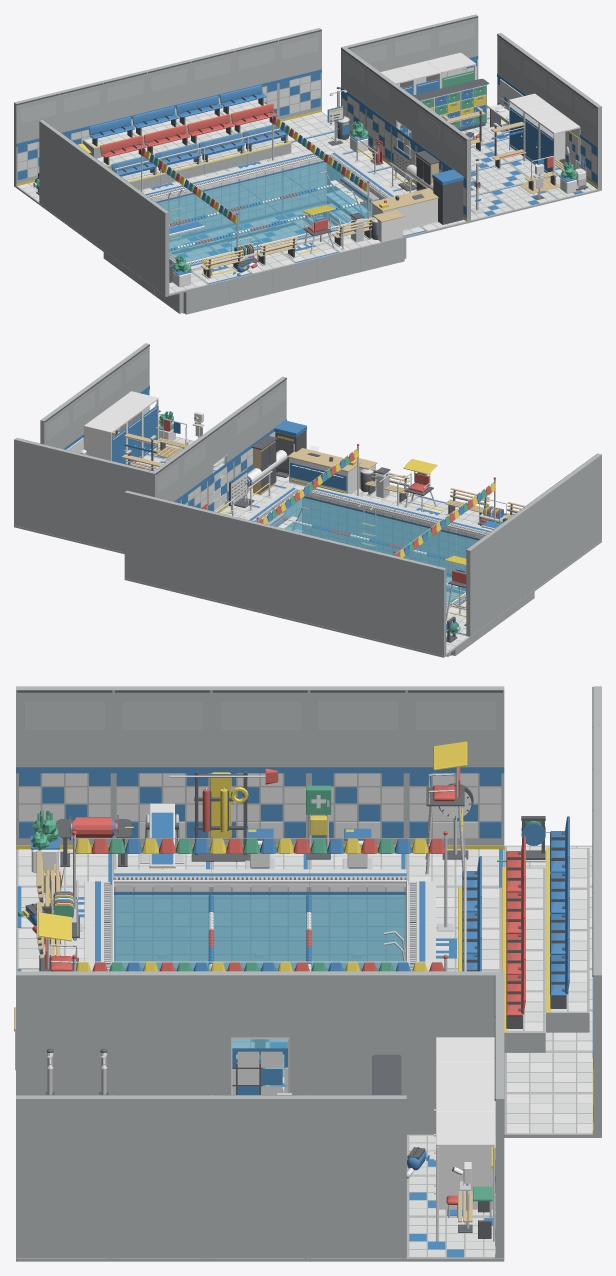
Rendered from swimming-baths.glb.
3 views of the same model, one above another, from view 1: azimuth 30°, elevation 25°; view 2: azimuth 150°, elevation 25°; view 3: azimuth 270°, elevation 25° (orthographic). The views are drawn at different scales.
Visible parts, largest first — view 1: 115-baths-wall-module/0, 110-baths-wall-module/0, 111-baths-wall-module/0, 112-baths-wall-module/0, 113-baths-wall-module/0, 114-baths-wall-module/0, 104-baths-wall-module/0, 109-baths-wall-module/0, 105-baths-wall-module/0, 106-baths-wall-module/0, 108-baths-wall-module/0, 107-baths-wall-module/0 (+89 smaller); view 2: 104-baths-wall-module/0, 108-baths-wall-module/0, 105-baths-wall-module/0, 110-baths-wall-module/0, 122-baths-wall-module/0, 106-baths-wall-module/0, 109-baths-wall-module/0, 107-baths-wall-module/0, 123-baths-wall-module/0, 111-baths-wall-module/0, 121-baths-wall-module/0, 114-baths-wall-module/0 (+36 smaller); view 3: 126-baths-wall-module/0, 124-baths-wall-module/0, 127-baths-wall-module/0, 125-baths-wall-module/0, 119-baths-wall-module/0, 120-baths-wall-module/0, 117-baths-wall-module/0, 115-baths-wall-module/0, 112-baths-wall-module/0, 114-baths-wall-module/0, 116-baths-wall-module/0, 118-baths-wall-module-doorway/0 (+79 smaller).
Part boxes in pixels (x1,y1,x2,y2): 115-baths-wall-module/0: [140, 194, 169, 295]; 110-baths-wall-module/0: [276, 28, 321, 119]; 111-baths-wall-module/0: [39, 120, 67, 220]; 112-baths-wall-module/0: [64, 138, 93, 239]; 113-baths-wall-module/0: [89, 157, 118, 258]; 114-baths-wall-module/0: [115, 175, 143, 276]; 104-baths-wall-module/0: [14, 92, 59, 185]; 109-baths-wall-module/0: [232, 38, 278, 119]; 105-baths-wall-module/0: [58, 81, 103, 143]; 106-baths-wall-module/0: [101, 70, 147, 125]; 108-baths-wall-module/0: [189, 49, 234, 104]; 107-baths-wall-module/0: [145, 60, 190, 115]; 104-baths-wall-module/0: [398, 557, 446, 655]; 108-baths-wall-module/0: [215, 512, 263, 611]; 105-baths-wall-module/0: [352, 546, 400, 644]; 110-baths-wall-module/0: [124, 490, 171, 588]; 122-baths-wall-module/0: [59, 449, 106, 547]; 106-baths-wall-module/0: [307, 535, 354, 633]; 109-baths-wall-module/0: [170, 501, 217, 600]; 107-baths-wall-module/0: [261, 524, 308, 622]; 123-baths-wall-module/0: [14, 438, 61, 536]; 111-baths-wall-module/0: [466, 530, 496, 636]; 121-baths-wall-module/0: [105, 460, 152, 552]; 114-baths-wall-module/0: [545, 472, 575, 578]; 126-baths-wall-module/0: [113, 1095, 211, 1258]; 124-baths-wall-module/0: [309, 1095, 406, 1258]; 127-baths-wall-module/0: [16, 1095, 113, 1258]; 125-baths-wall-module/0: [211, 1095, 308, 1258]; 119-baths-wall-module/0: [113, 971, 211, 1095]; 120-baths-wall-module/0: [16, 971, 113, 1095]; 117-baths-wall-module/0: [309, 971, 406, 1095]; 115-baths-wall-module/0: [16, 686, 113, 845]; 112-baths-wall-module/0: [309, 686, 406, 845]; 114-baths-wall-module/0: [113, 686, 211, 845]; 116-baths-wall-module/0: [406, 971, 504, 1134]; 118-baths-wall-module-doorway/0: [211, 971, 308, 1095].
Size of the model in its own units: 20 by 5.68 by 12.04.
